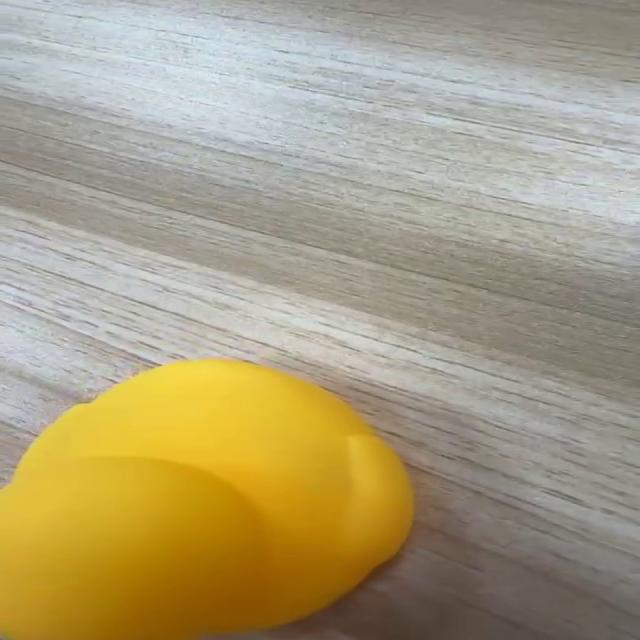yellow_duck: (0, 356, 416, 638)
